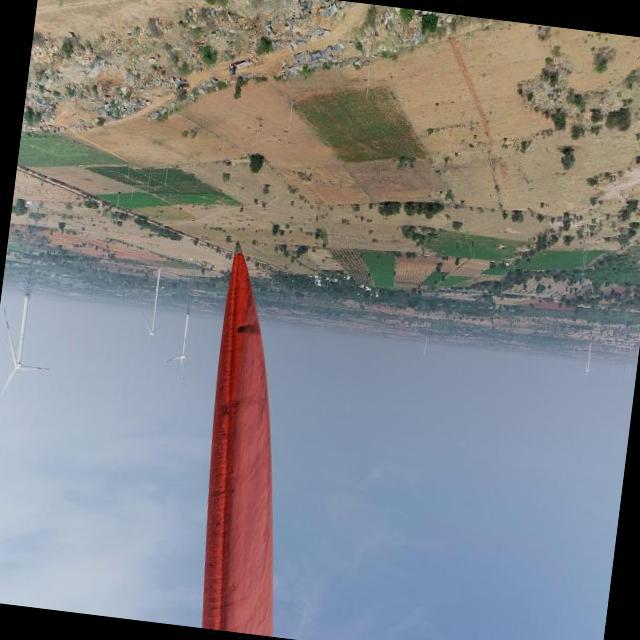Dirt: (205, 274, 270, 629)
Pin Hole: (236, 324, 255, 337)
